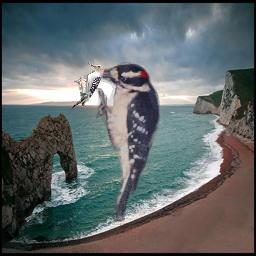Woodpecker: (92, 60, 163, 221), (70, 62, 105, 110)
